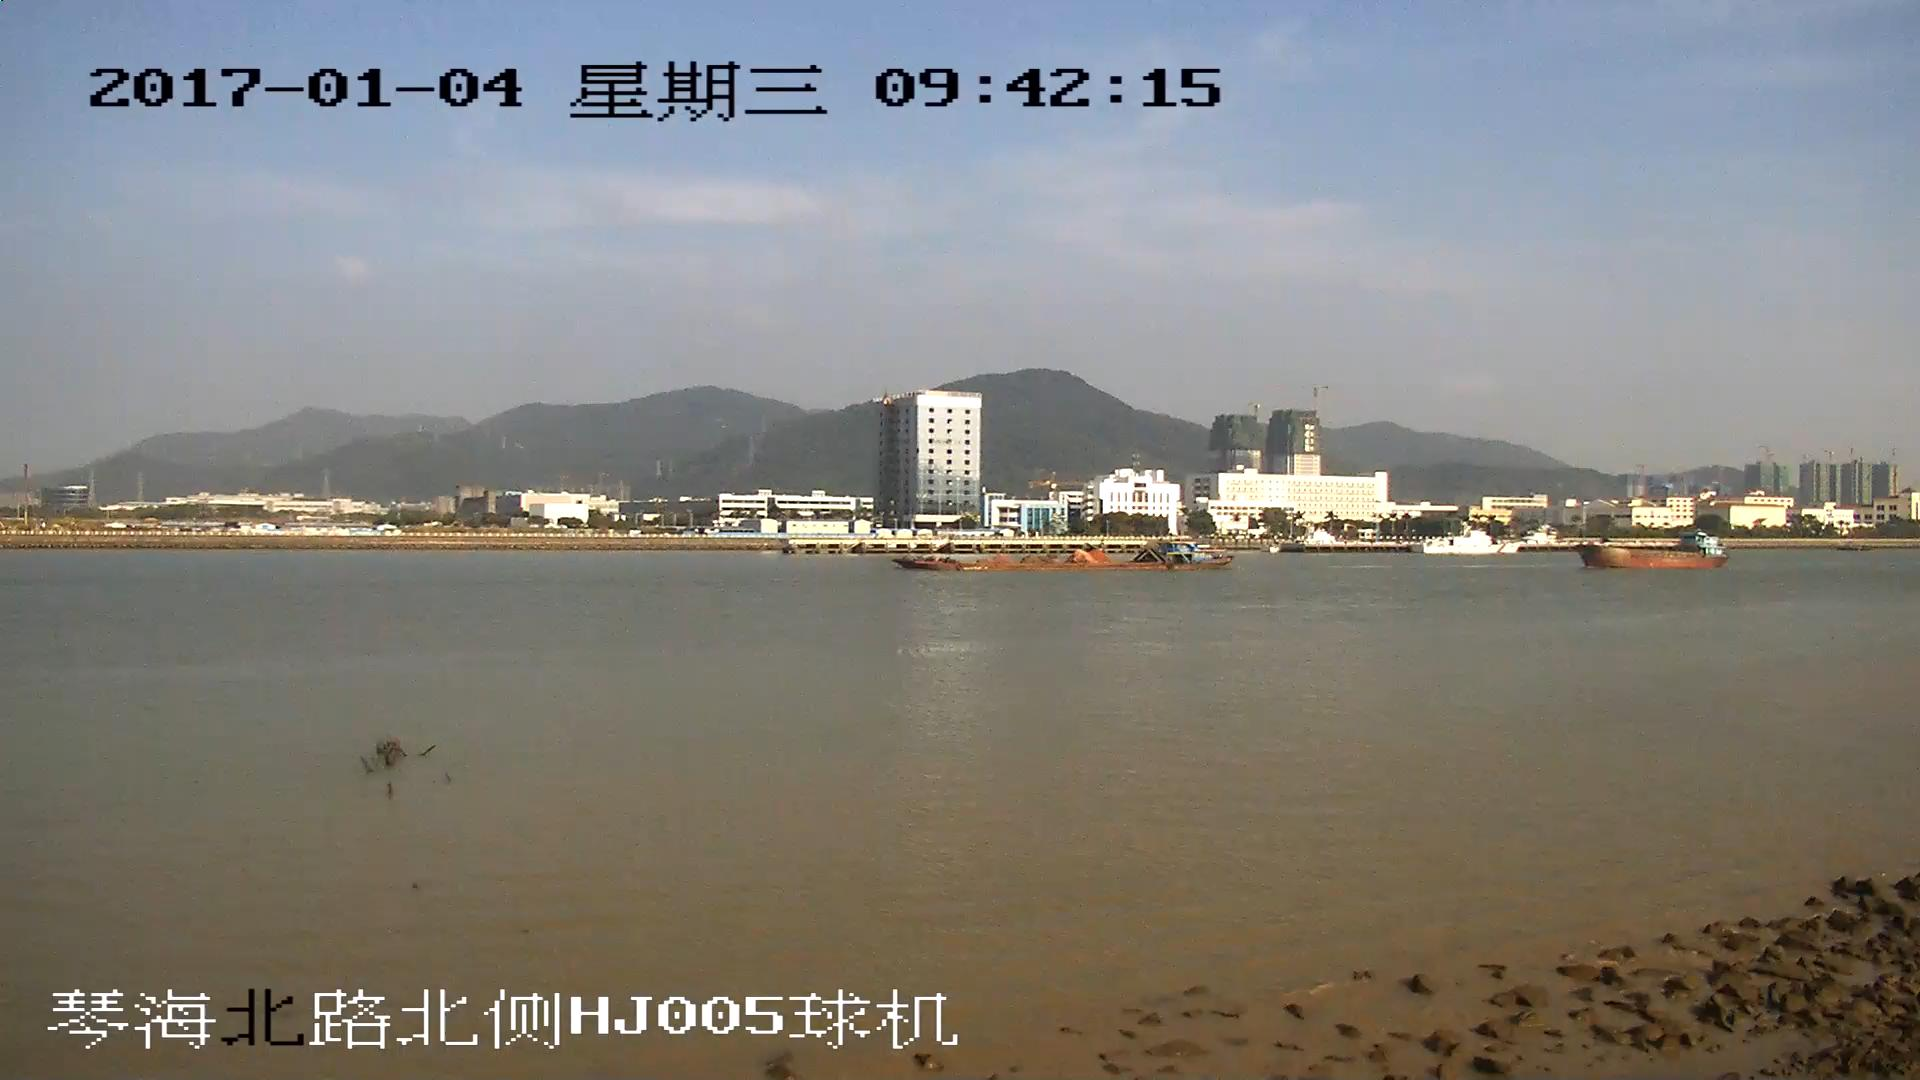bulk cargo carrier: (1583, 532, 1722, 570)
ore carrier: (898, 543, 1234, 569)
